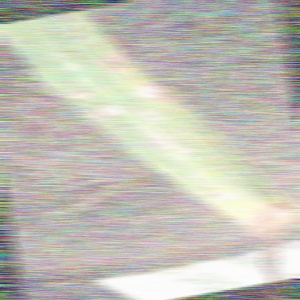Brown_Spot: (94, 42, 130, 78), (135, 75, 178, 103), (94, 95, 135, 124), (62, 81, 91, 108)
